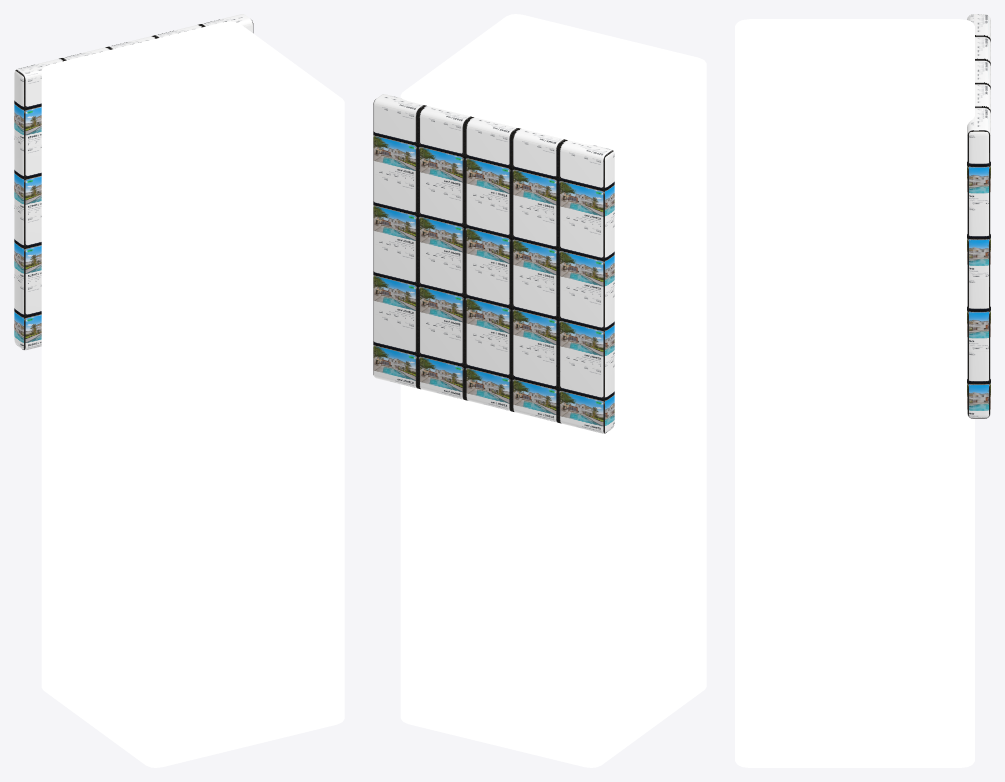
Rendered from plot-beam.glb.
3 views of the same model, side by side, from view 1: azimuth 30°, elevation 25°; view 2: azimuth 150°, elevation 25°; view 3: azimuth 270°, elevation 25° (orthographic). The views are drawn at different scales.
Visible parts, largest first — view 1: PlotTower, PlotCardSlab; view 2: PlotTower, PlotCardSlab; view 3: PlotTower, PlotCardSlab.
Boxes of the visible parts, box(x1,y1,x2,y2) form: PlotTower: box(41, 21, 344, 767); PlotCardSlab: box(14, 14, 253, 350); PlotTower: box(400, 14, 706, 767); PlotCardSlab: box(373, 94, 614, 433); PlotTower: box(735, 19, 974, 767); PlotCardSlab: box(967, 14, 990, 418).
Size of the model in its own units: 3.5 by 9 by 3.2.
2 materials, 1 textured.
